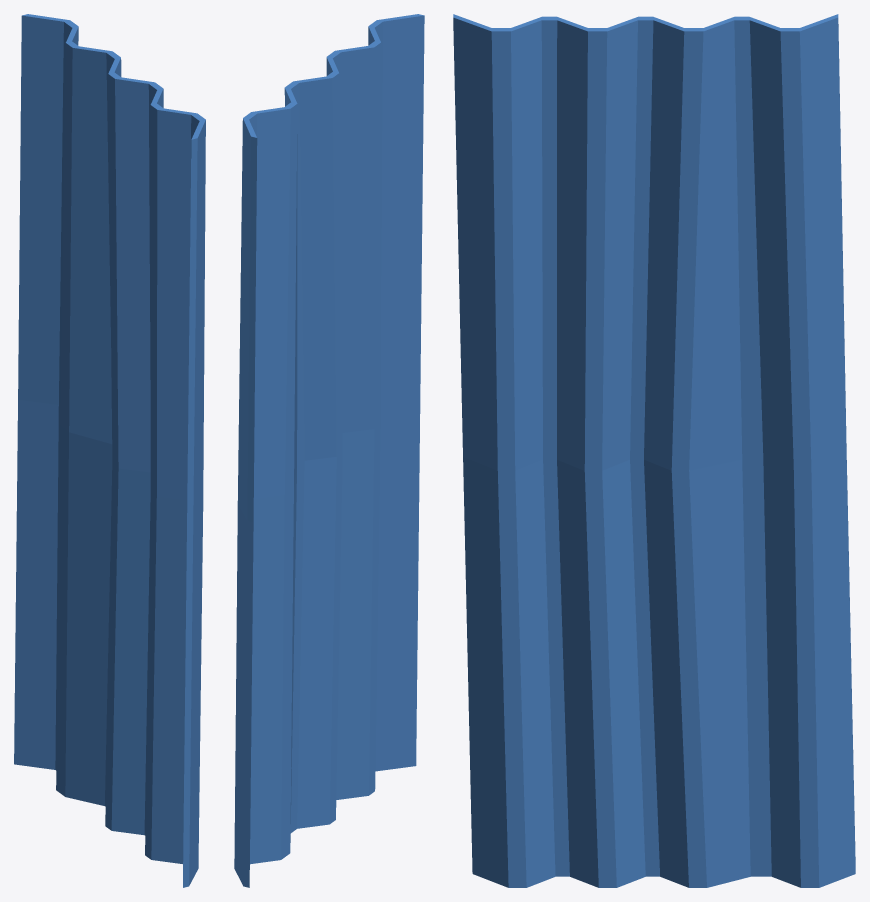
File: Childrens_Room_Curtain.fbx
The picture shows the model from 3 angles, left to right: view 1: azimuth 30°, elevation 25°; view 2: azimuth 150°, elevation 25°; view 3: azimuth 270°, elevation 25°; orthographic projection. The views are drawn at different scales.
Visible parts, largest first — view 1: Childrens_Room_Curtain; view 2: Childrens_Room_Curtain; view 3: Childrens_Room_Curtain.
Boxes of the visible parts, left/top/right/bottom form: Childrens_Room_Curtain: left=14, top=14, right=205, bottom=887; Childrens_Room_Curtain: left=234, top=14, right=424, bottom=887; Childrens_Room_Curtain: left=453, top=14, right=855, bottom=887.
Size of the model in its own units: 16.35 by 374 by 159.
